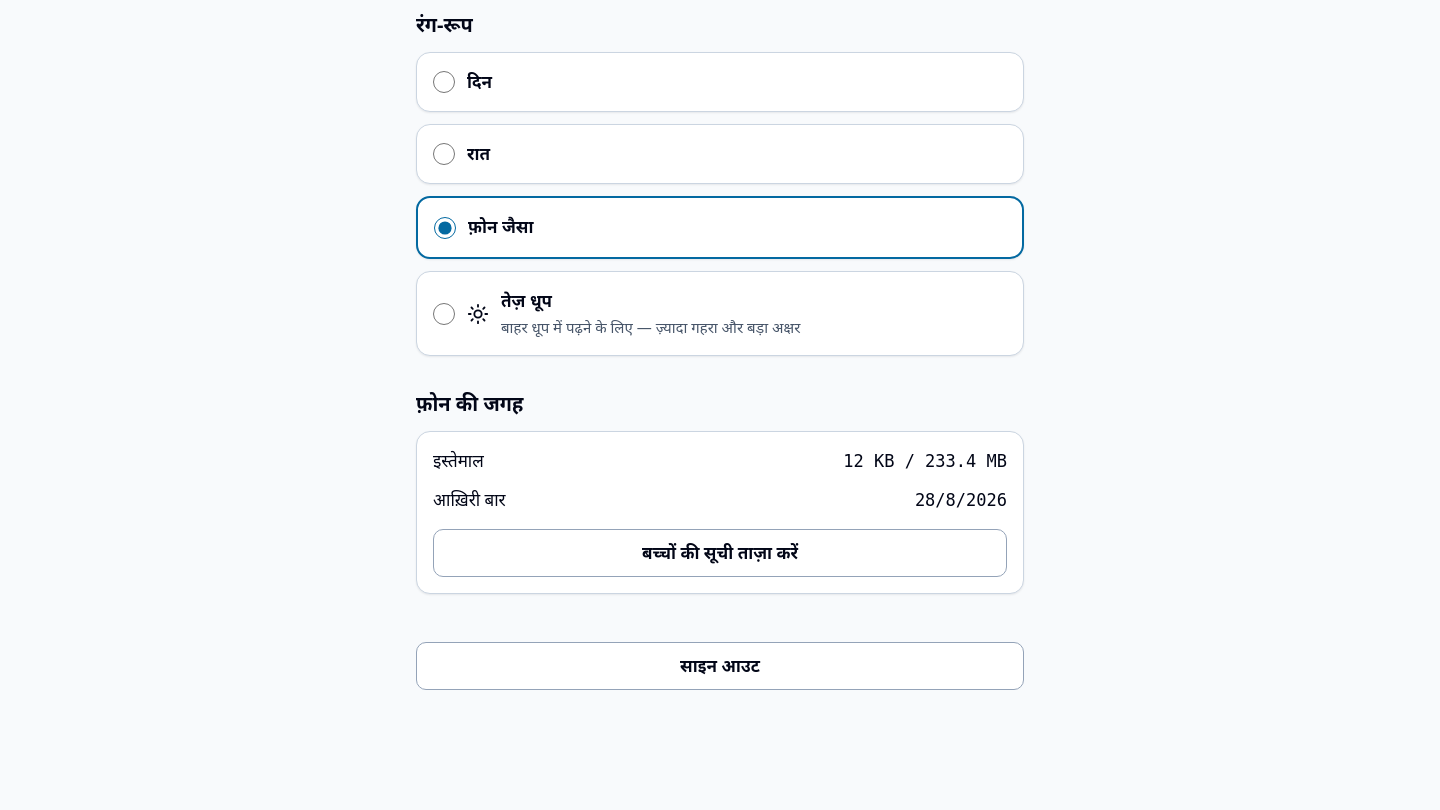
Test case: Settings screen › confirms before signing out, since it clears unsent work
(page scrolled)
Click the button "साइन आउट": (720,666) [416,642,1024,690]
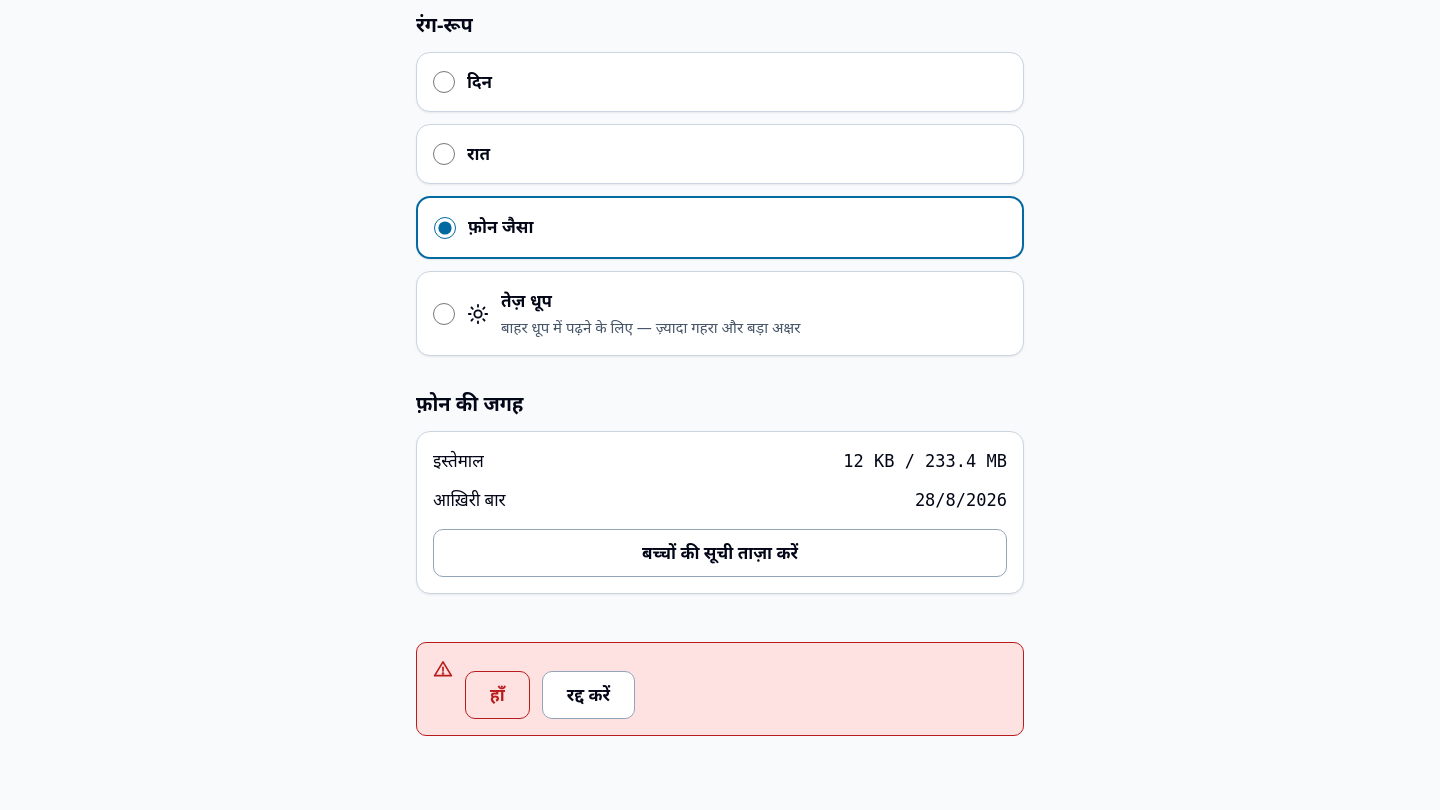
Expected: the dialog is shown, [416,642,1024,736]
